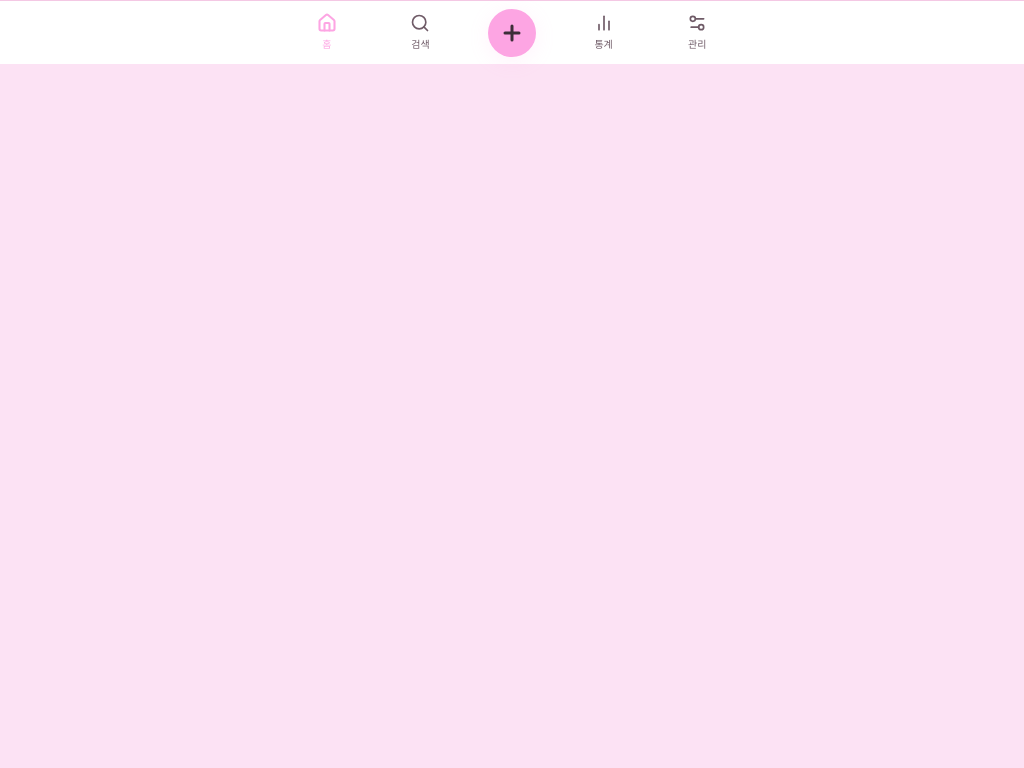
Test: BottomNav › 접근성 › 시트의 닫기 버튼에 aria-label이 있다
Step 1. Click the button named "거래 등록 방식 선택" → (512, 32), box [488,8,536,56]
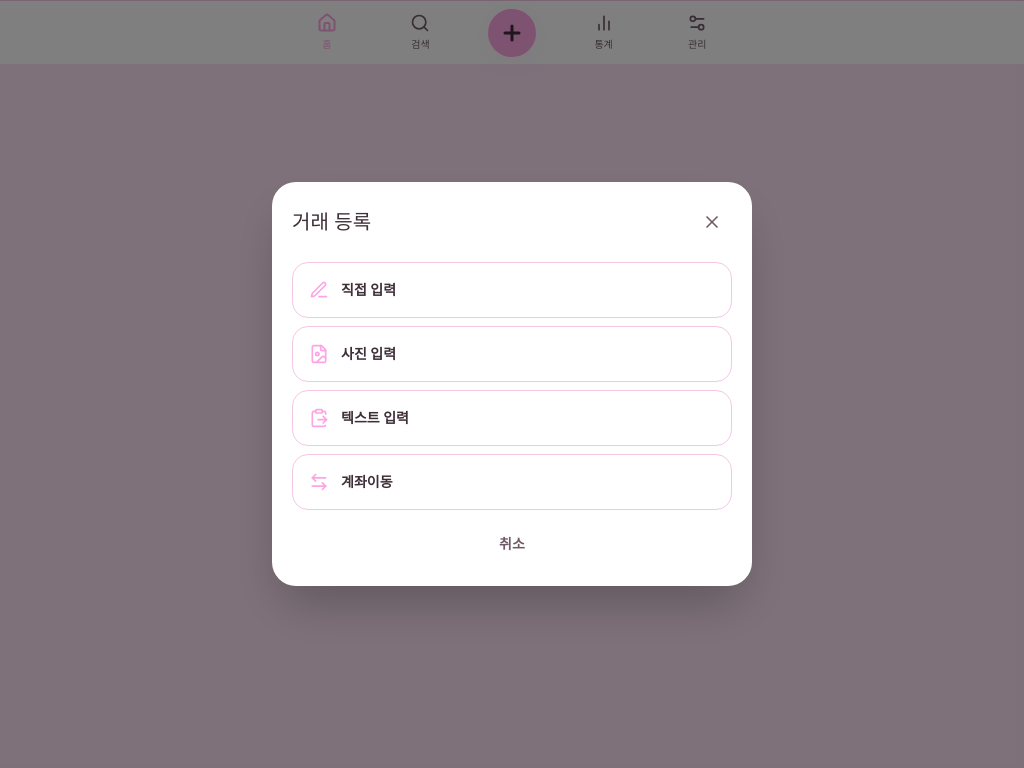
Now the button named "닫기" is shown, box [692,202,732,242]
